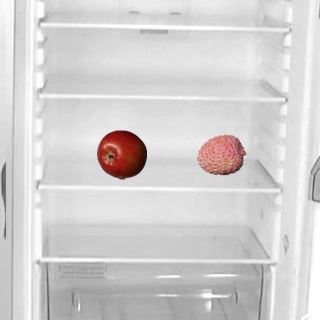Apple Braeburn: (96, 129, 146, 179)
Lychee: (196, 129, 246, 179)
